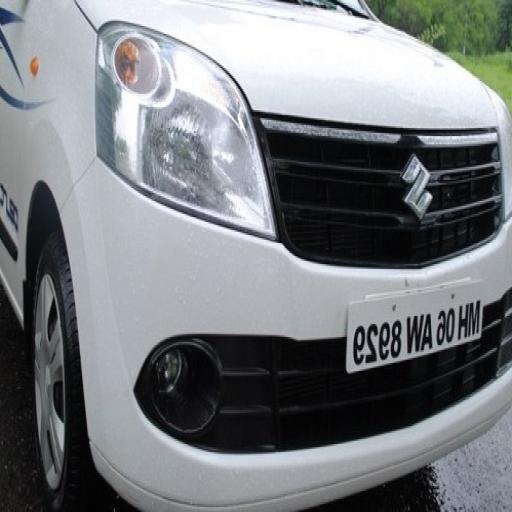License: (344, 278, 486, 367)
